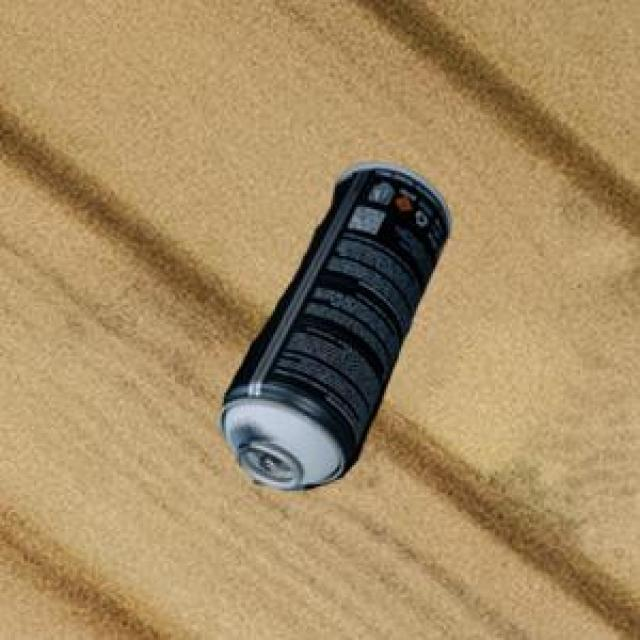Can: (217, 161, 447, 487)
